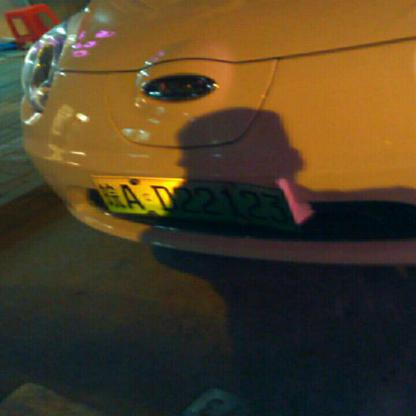lp: (90, 174, 298, 231)
